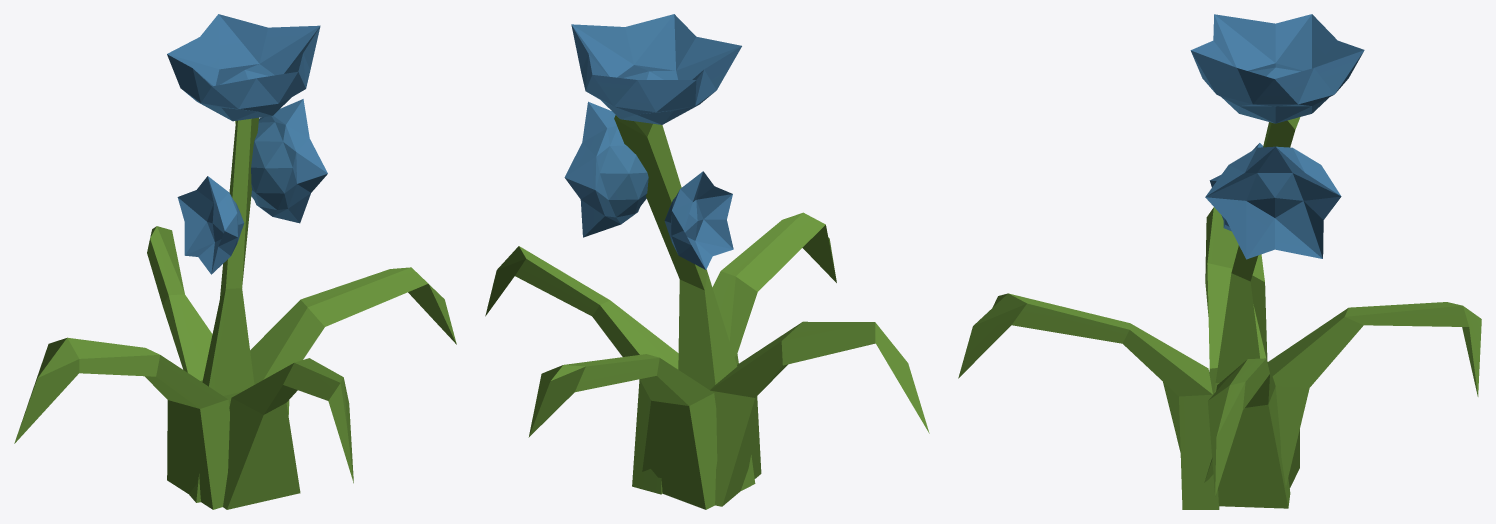
File: flower1.fbx
3 renders of one model, left to right at view 1: azimuth 30°, elevation 25°; view 2: azimuth 150°, elevation 25°; view 3: azimuth 270°, elevation 25°, orthographic. The views are drawn at different scales.
Parts seen in each view (by area): view 1: Icosphere.002; view 2: Icosphere.002; view 3: Icosphere.002.
Part boxes in pixels (left/top/right/bottom): Icosphere.002: left=14, top=14, right=456, bottom=509; Icosphere.002: left=485, top=14, right=929, bottom=509; Icosphere.002: left=958, top=14, right=1481, bottom=509.
Bounding box in the file's own units: 218 × 203 × 207.
